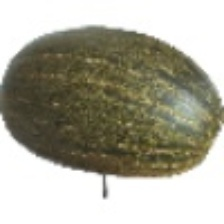honeydew: (22, 57, 215, 209)
